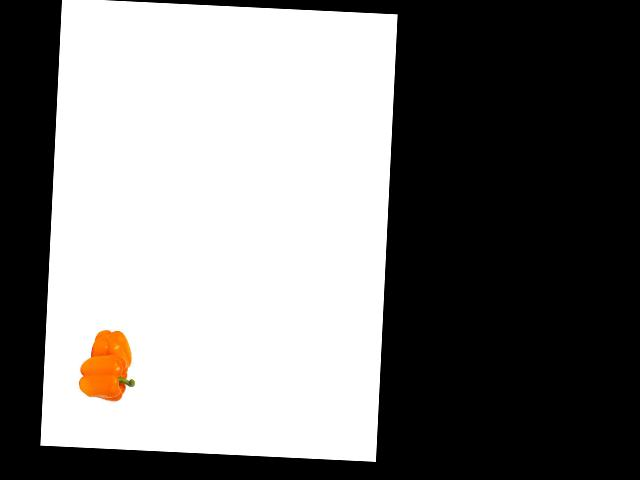bell_pepper: (84, 325, 134, 372)
